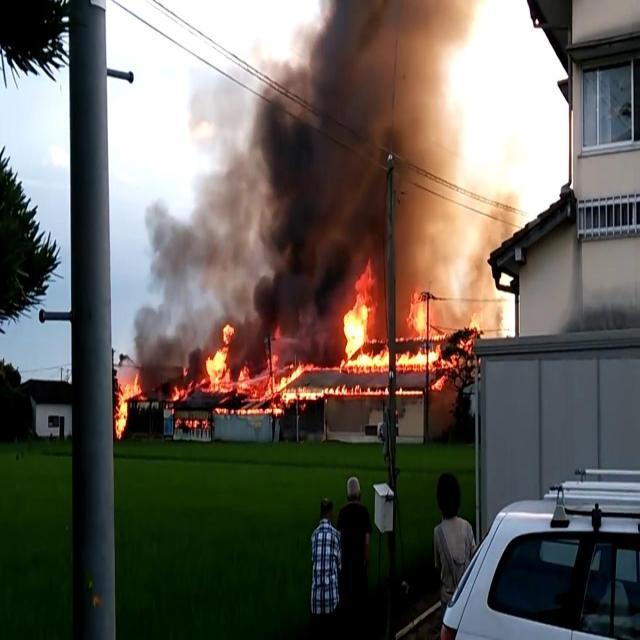Fire: (106, 324, 471, 386)
Smoke: (298, 25, 440, 292), (216, 134, 294, 283)
